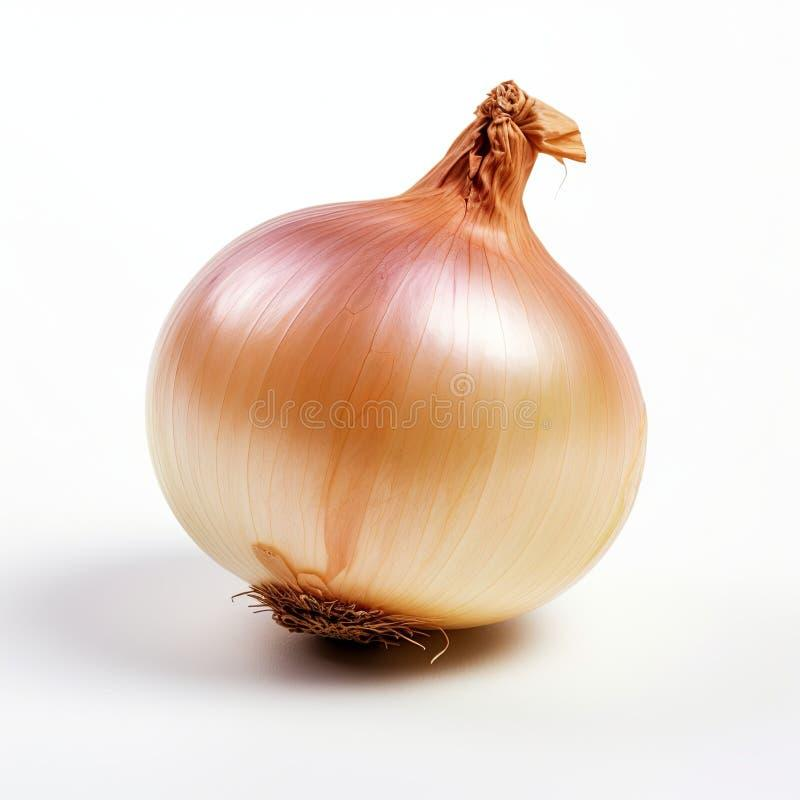Onion: (140, 78, 654, 651)
